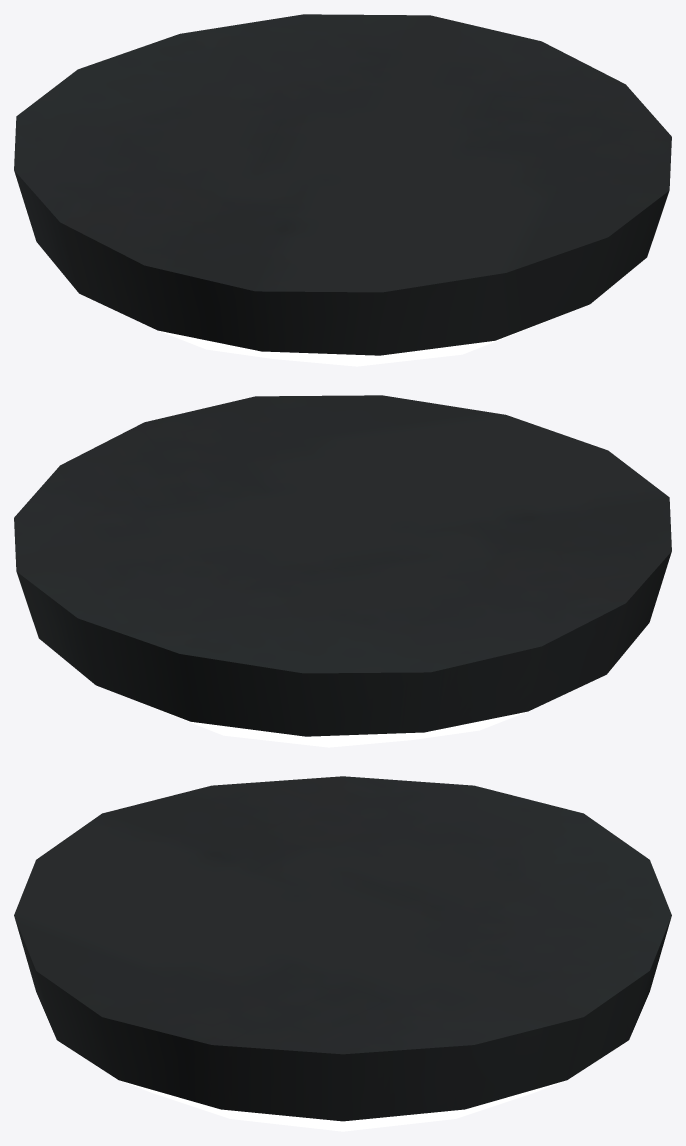
File: RoundLight.FBX
3 renders of one model, top to bottom at view 1: azimuth 30°, elevation 25°; view 2: azimuth 150°, elevation 25°; view 3: azimuth 270°, elevation 25°, orthographic.
Visible parts, largest first — view 1: light2; view 2: light2; view 3: light2.
Boxes of the visible parts, bbox=[...] form: light2: bbox=[14, 14, 671, 366]; light2: bbox=[14, 395, 671, 747]; light2: bbox=[14, 776, 671, 1131].
Size of the model in its own units: 43.1 by 10.5 by 43.1.
